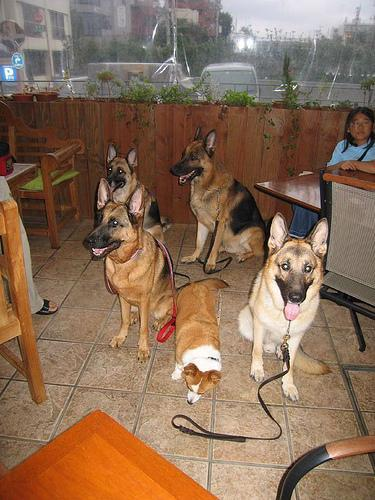German_shepherd: (237, 212, 330, 402)
